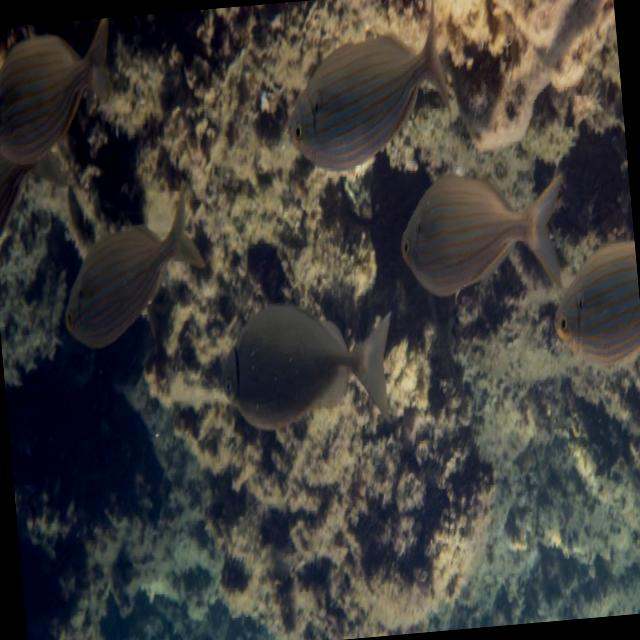Sokar Baligi: (268, 0, 466, 192), (202, 287, 408, 466), (381, 150, 580, 325), (43, 177, 218, 366)
